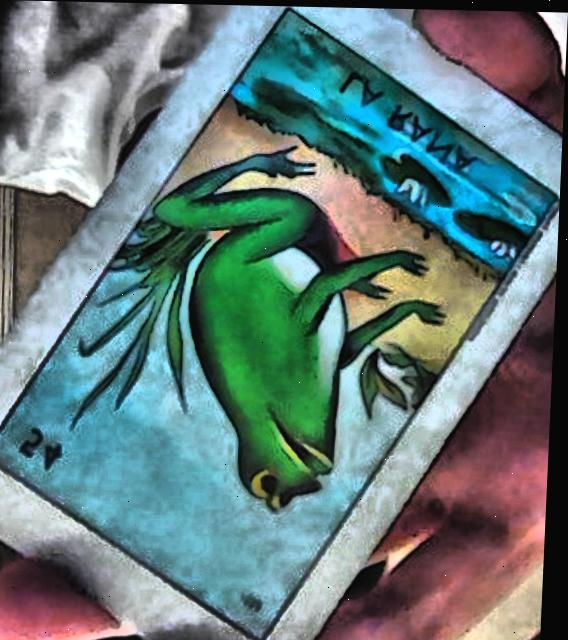La Rana: (0, 10, 561, 640)
